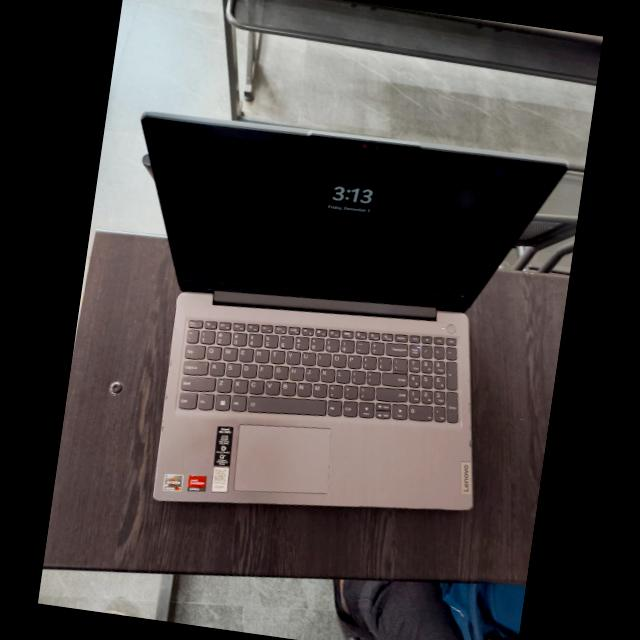laptop: (74, 88, 571, 544)
